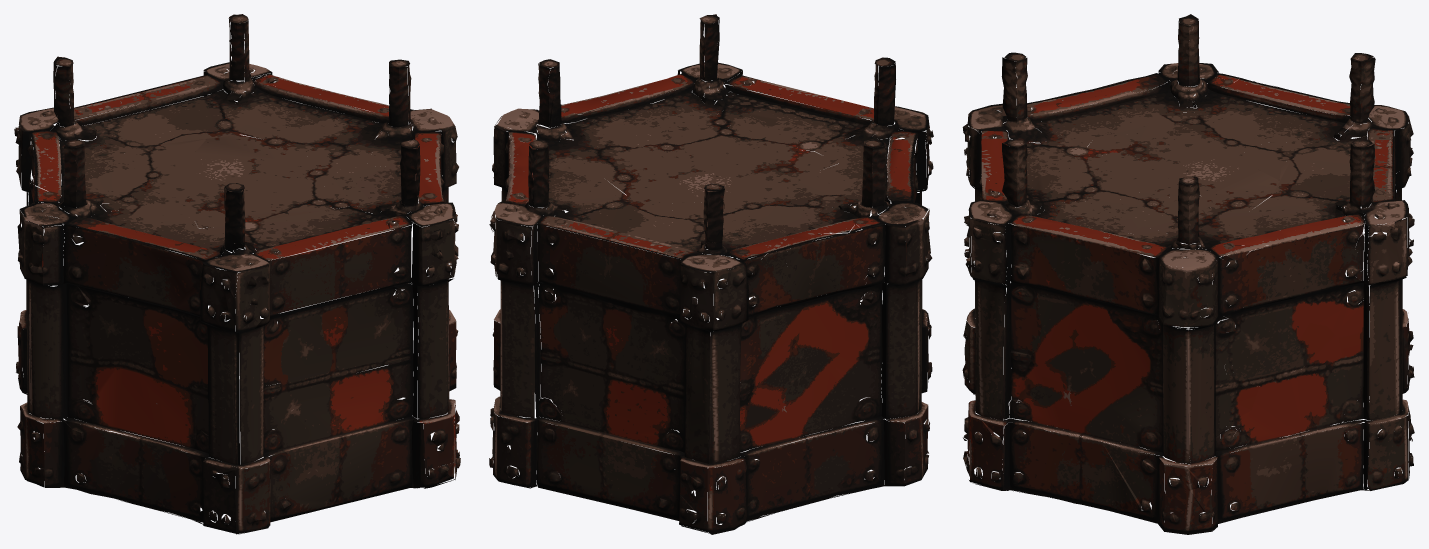
File: wall.glb
3 renders of one model, left to right at view 1: azimuth 30°, elevation 25°; view 2: azimuth 150°, elevation 25°; view 3: azimuth 270°, elevation 25°, orthographic.
Visible parts, largest first — view 1: wall; view 2: wall; view 3: wall.
Boxes of the visible parts, bbox=[...] form: wall: bbox=[14, 14, 460, 534]; wall: bbox=[489, 14, 933, 534]; wall: bbox=[962, 14, 1414, 534].
Size of the model in its own units: 1.56 by 1.16 by 1.42.
Materials: 1 (1 with a texture image).
